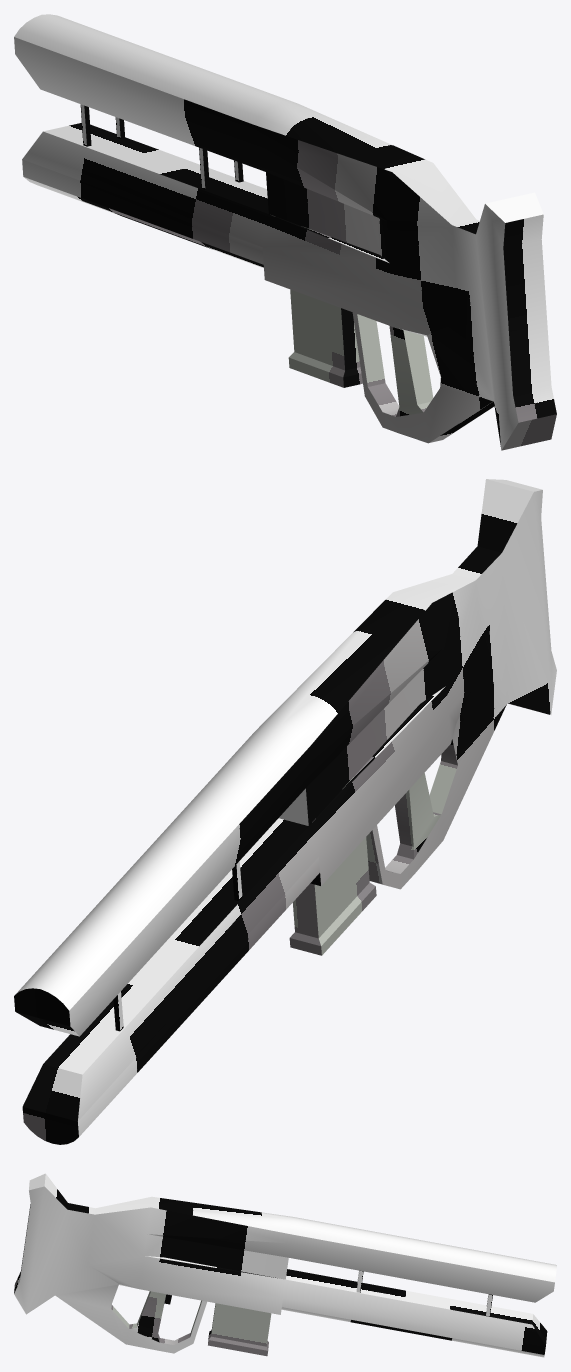
3 renders of one model, top to bottom at view 1: azimuth 30°, elevation 25°; view 2: azimuth 150°, elevation 25°; view 3: azimuth 270°, elevation 25°, orthographic. The views are drawn at different scales.
Visible parts, largest first — view 1: Reciever; view 2: Reciever; view 3: Reciever.
Boxes of the visible parts, x1=… form: Reciever: x1=14, y1=14, x2=556, y2=450; Reciever: x1=14, y1=479, x2=556, y2=1144; Reciever: x1=14, y1=1173, x2=556, y2=1357.
Size of the model in its own units: 0.0676 by 0.3657 by 1.02.
